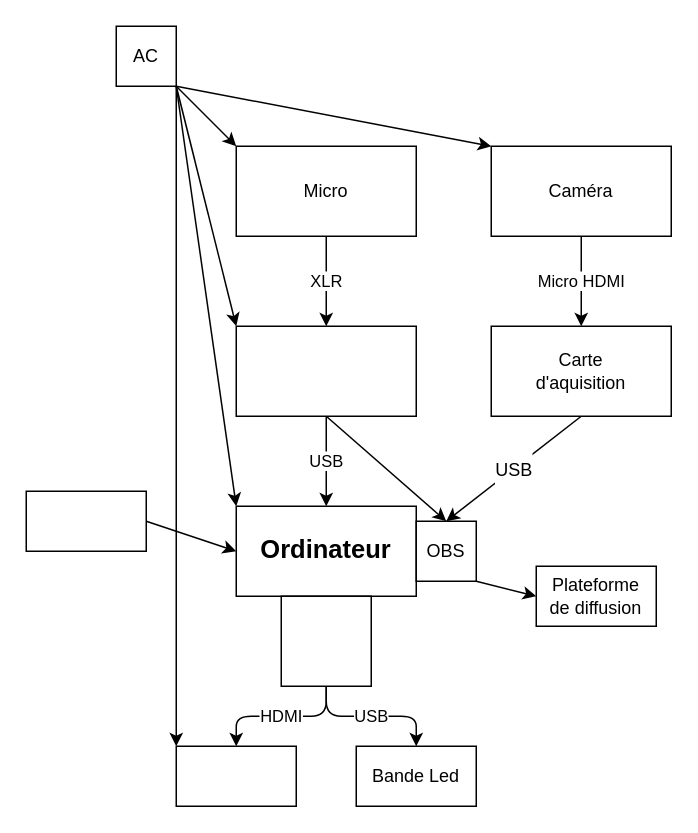
This 698x833 diagram has some shape labels left out. The shapes that lost their labels are listed below. From the top down, each one's centre as x and y in pixels, then its label:
point 325,370: Carte de son
point 85,520: Connection Ethernet
point 325,640: Traitement audio
point 235,775: Porjecteur
